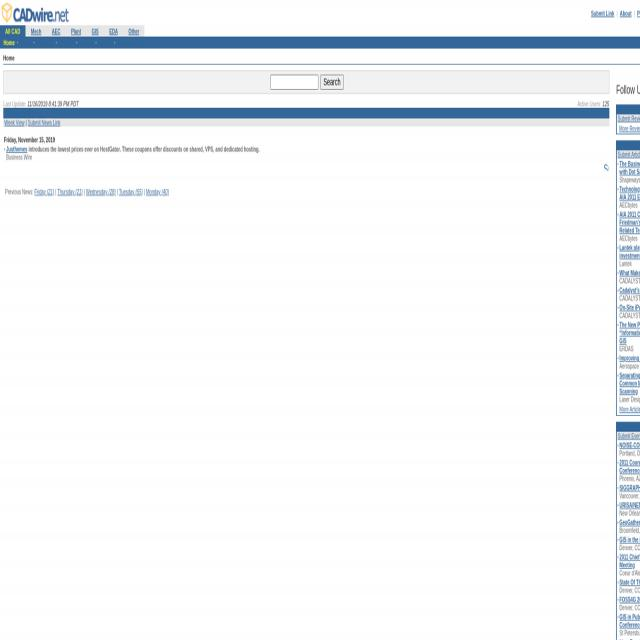button: (0, 2, 70, 23), (320, 74, 344, 89)
field: (270, 74, 318, 89)
